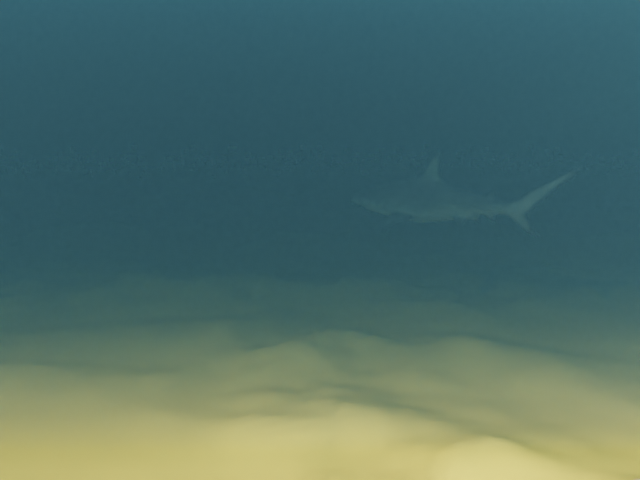Carribean Shark.001: (350, 153, 580, 237)
